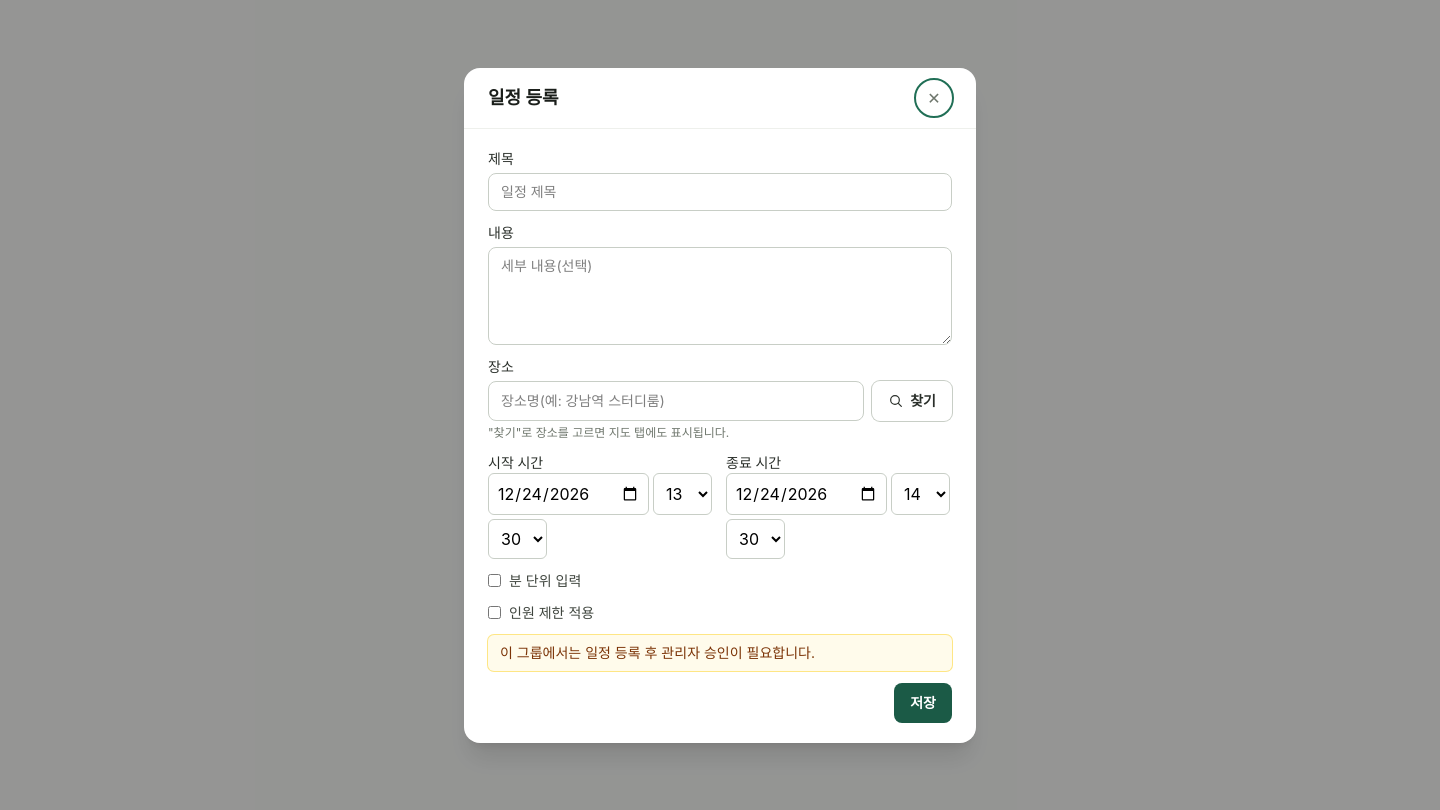
Scenario: ScheduleFormDialog › 종료가 시작보다 빠르면 저장하지 않는다
The width and height of the screenshot is (1440, 810).
Type "송년회" into the field labelled "제목". click: (720, 192)
box: [488, 172, 952, 210]
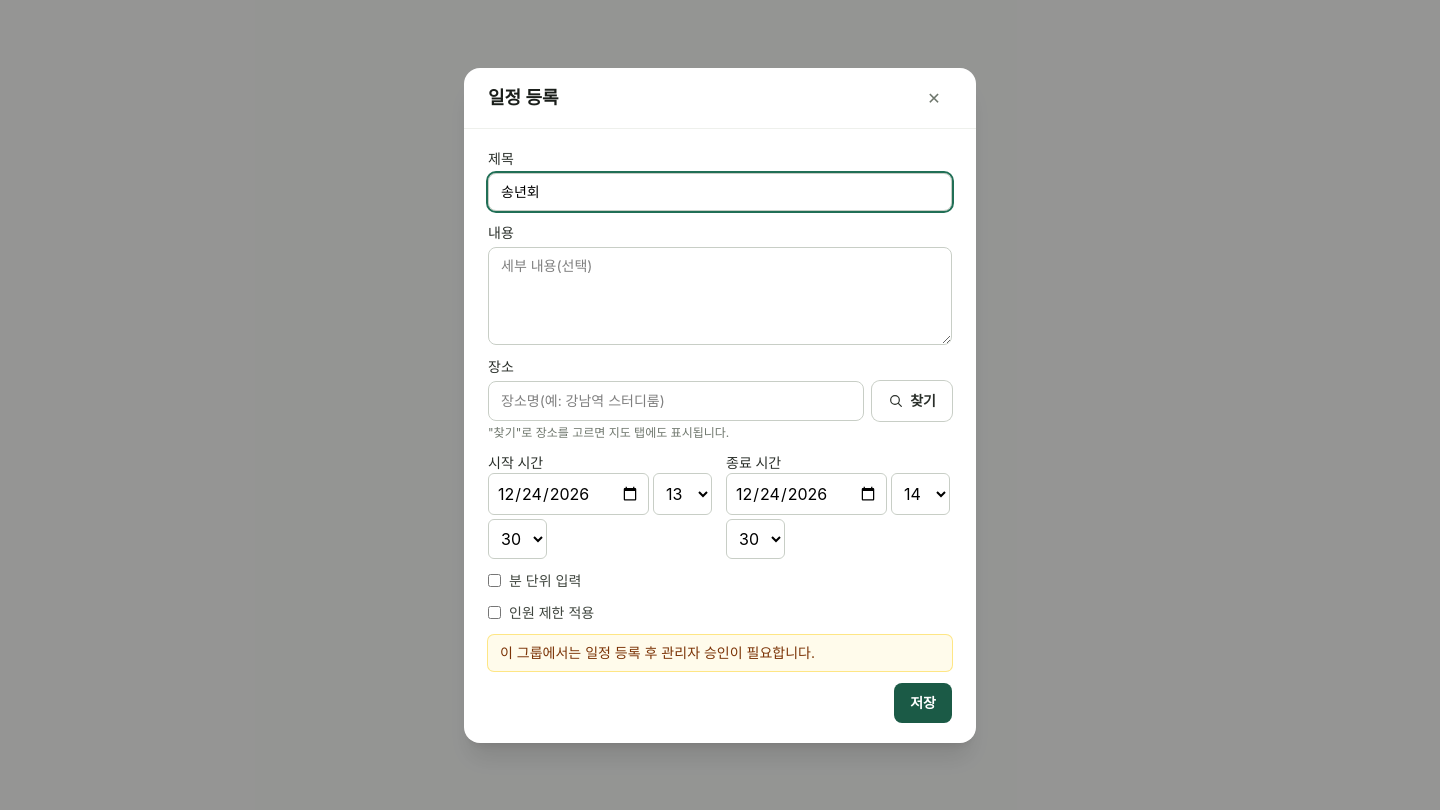
Select "18" in the 1st dropdown named "시작 시간 시". click: (682, 494)
box: [653, 472, 712, 514]
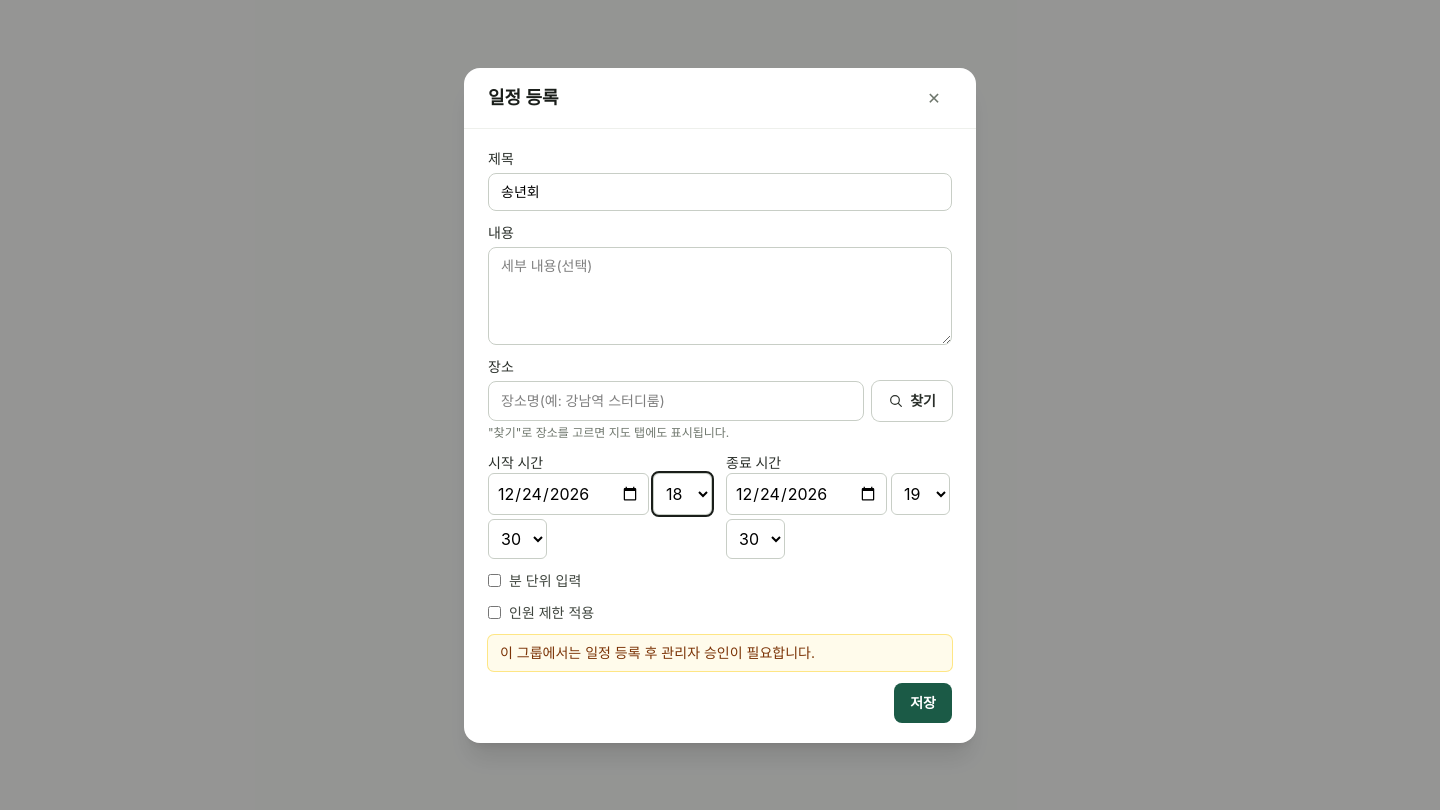
Select "17" in the 2nd dropdown named "종료 시간 시". click: (920, 494)
box: [891, 472, 950, 514]
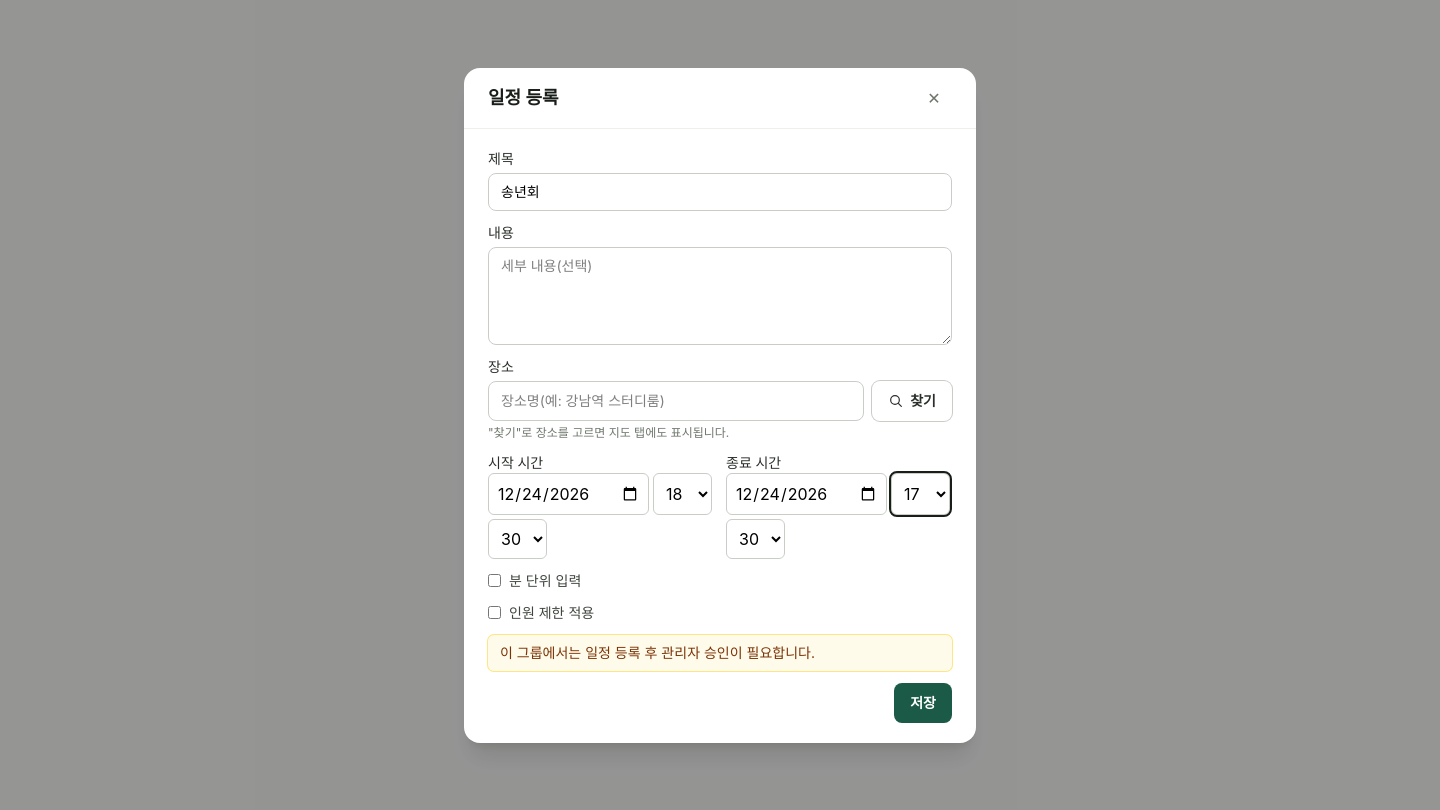
Click the button "저장". click: (923, 702)
box: [894, 682, 952, 722]
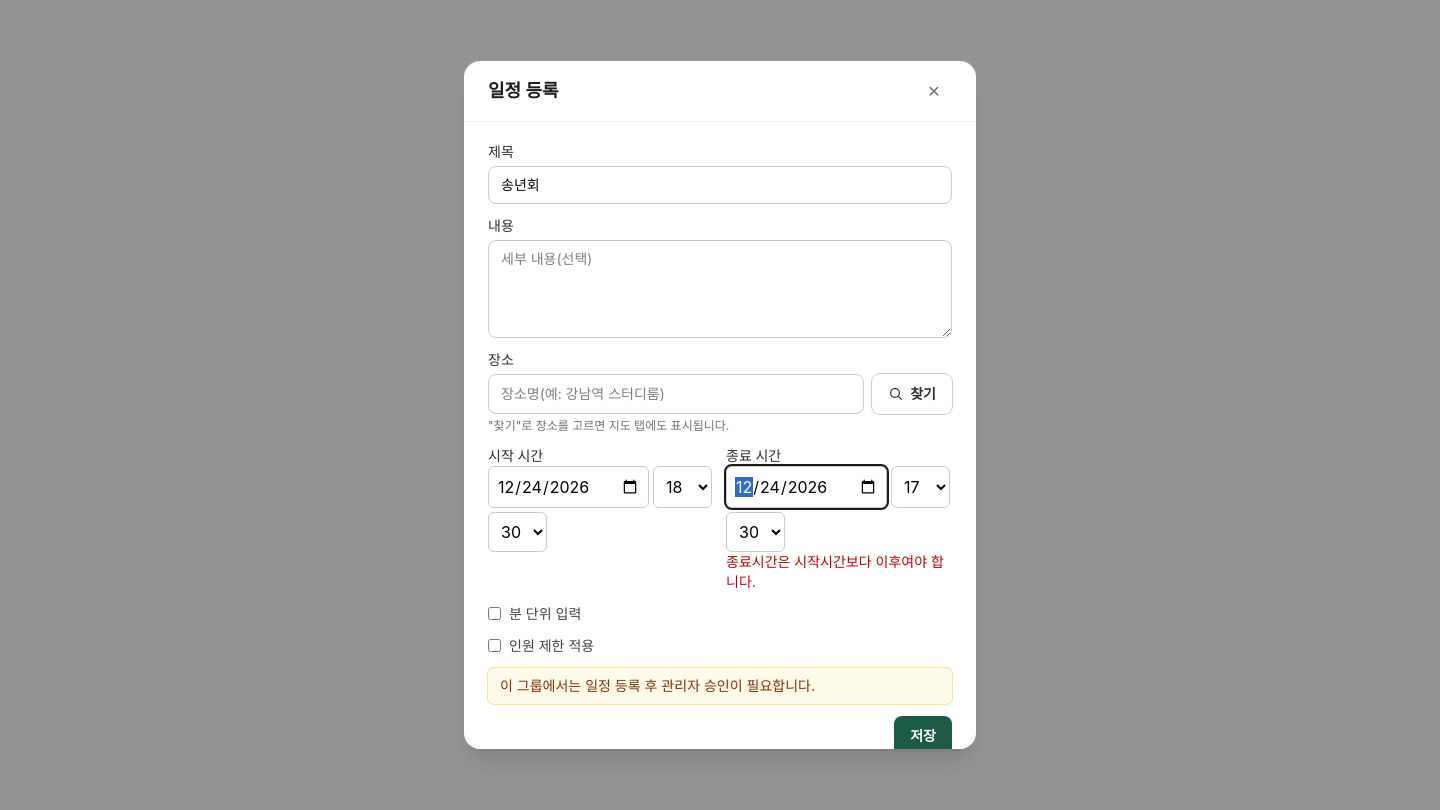
Result: the text "종료시간은 시작시간보다 이후여야 합니다." is shown at [726, 552, 952, 592]
